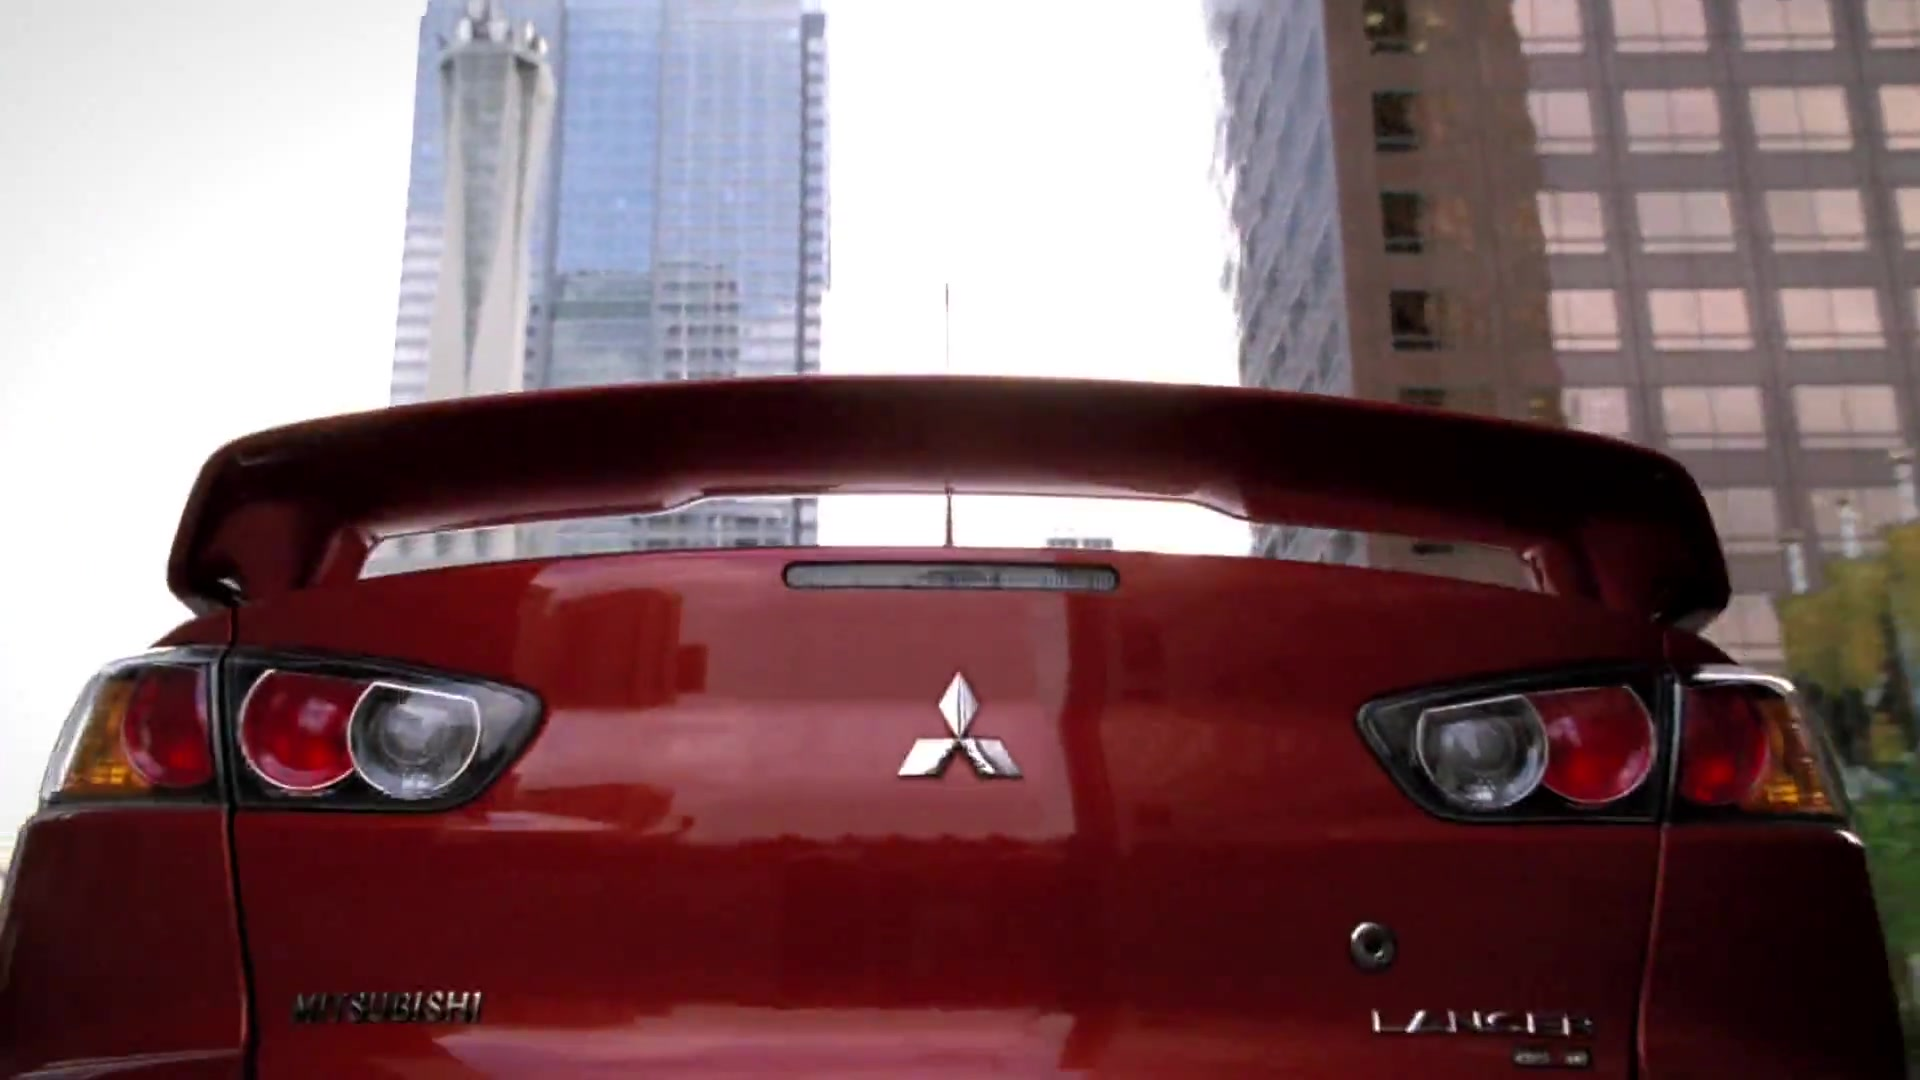car: (5, 367, 1920, 1080)
